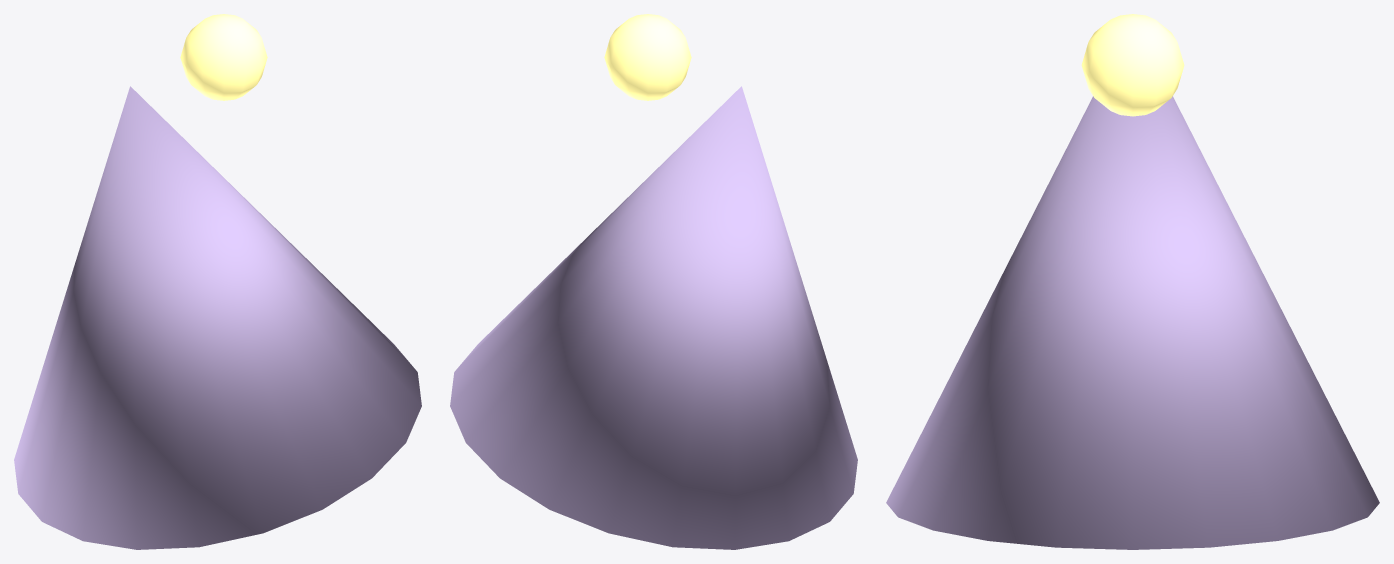
Rendered from wizard_cap.glb.
3 views of the same model, side by side, from view 1: azimuth 30°, elevation 25°; view 2: azimuth 150°, elevation 25°; view 3: azimuth 270°, elevation 25° (orthographic). The views are drawn at different scales.
Parts seen in each view (by area): view 1: wizard_cap; view 2: wizard_cap; view 3: wizard_cap.
Part boxes in pixels (<box>): wizard_cap: <box>14,14,421,549</box>; wizard_cap: <box>450,14,857,549</box>; wizard_cap: <box>886,14,1379,549</box>.
Size of the model in its own units: 0.2329 by 0.2905 by 0.24.
